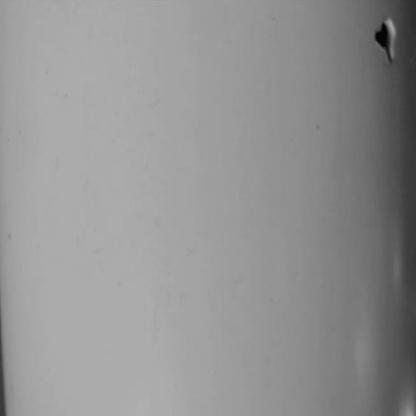kongdong: (352, 12, 405, 65)
